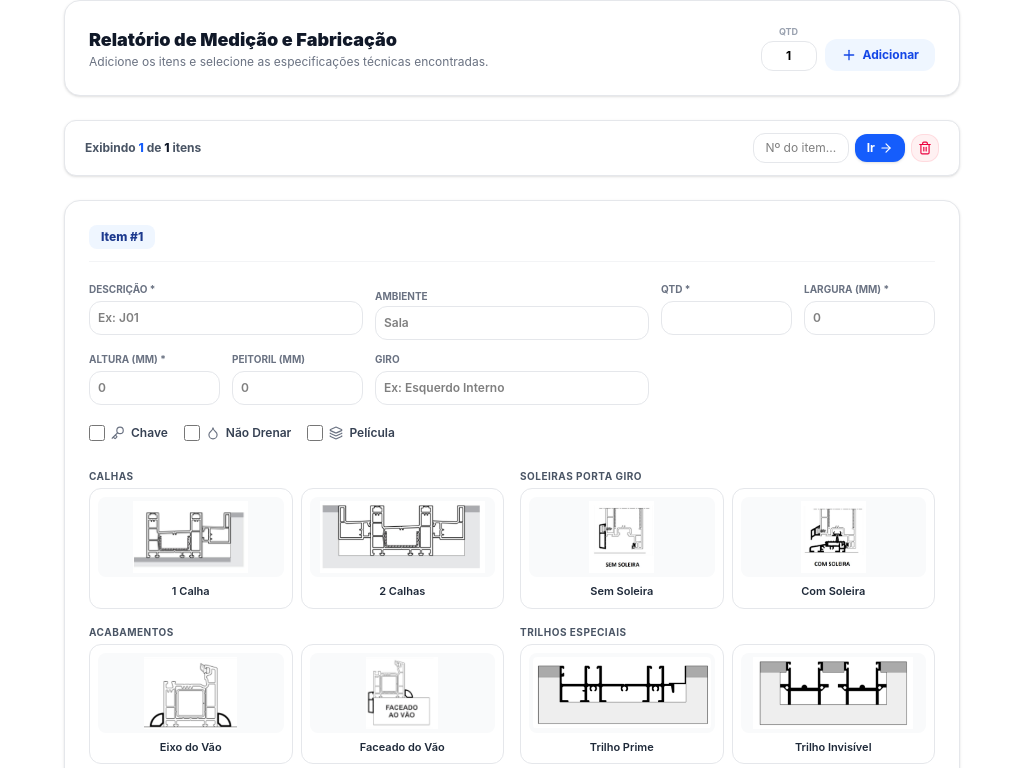
Exclusão de item com confirmação de Modal › não deve remover o item se o usuário clicar em Cancelar no Modal
This screenshot has width=1024, height=768.
Click the button "Adicionar". click: click(880, 55)
box: [824,39,935,71]
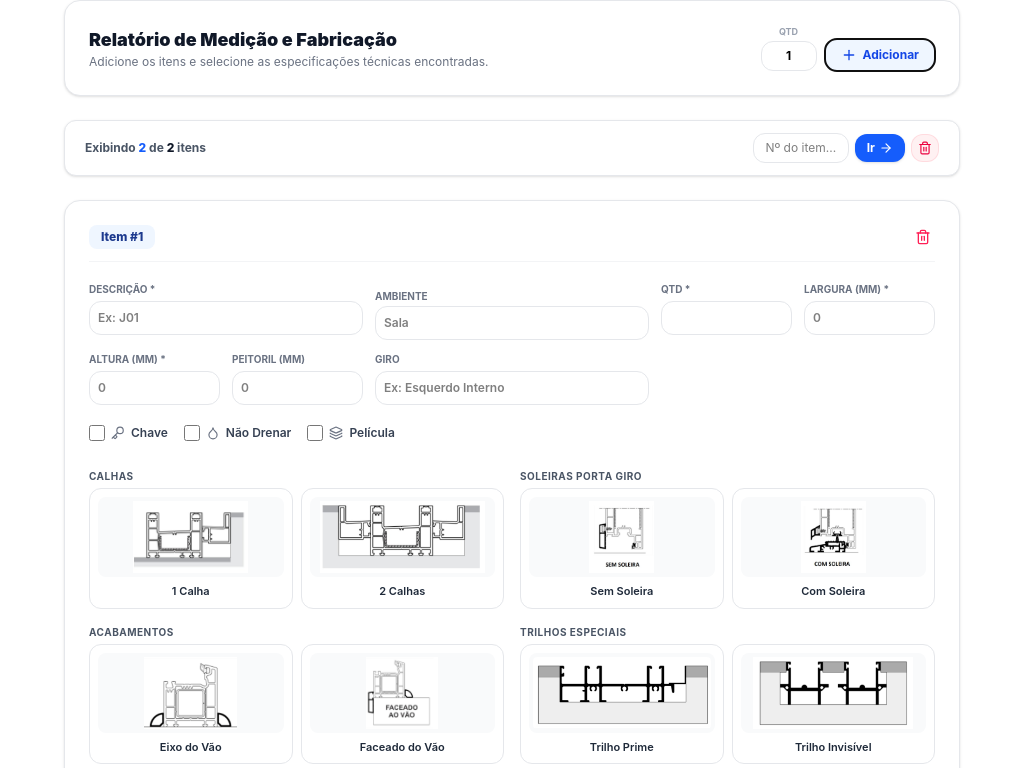
Expected: the element with test id "contador-itens" reads "Exibindo 2 de 2 itens", [85,140,206,156]
Type "2" into the field with placeholder "Nº do item...". click: (801, 148)
box: [753,133,849,163]
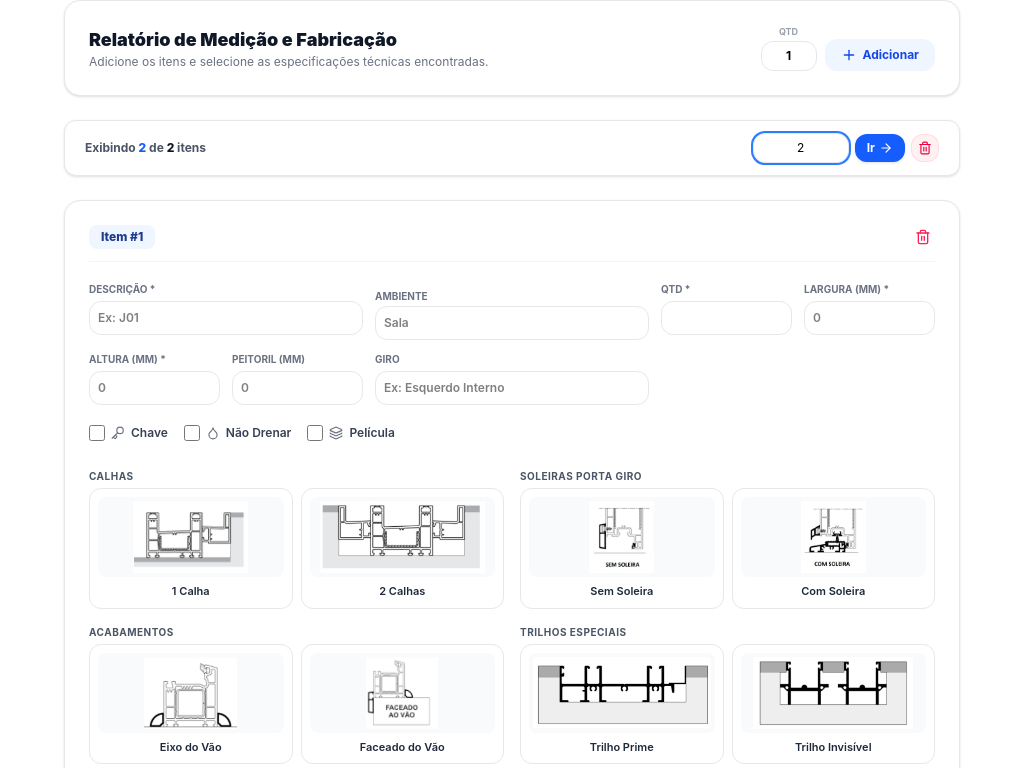
Click the button titled "remover este item pelo número". click: click(925, 148)
box: [911,134,939,162]
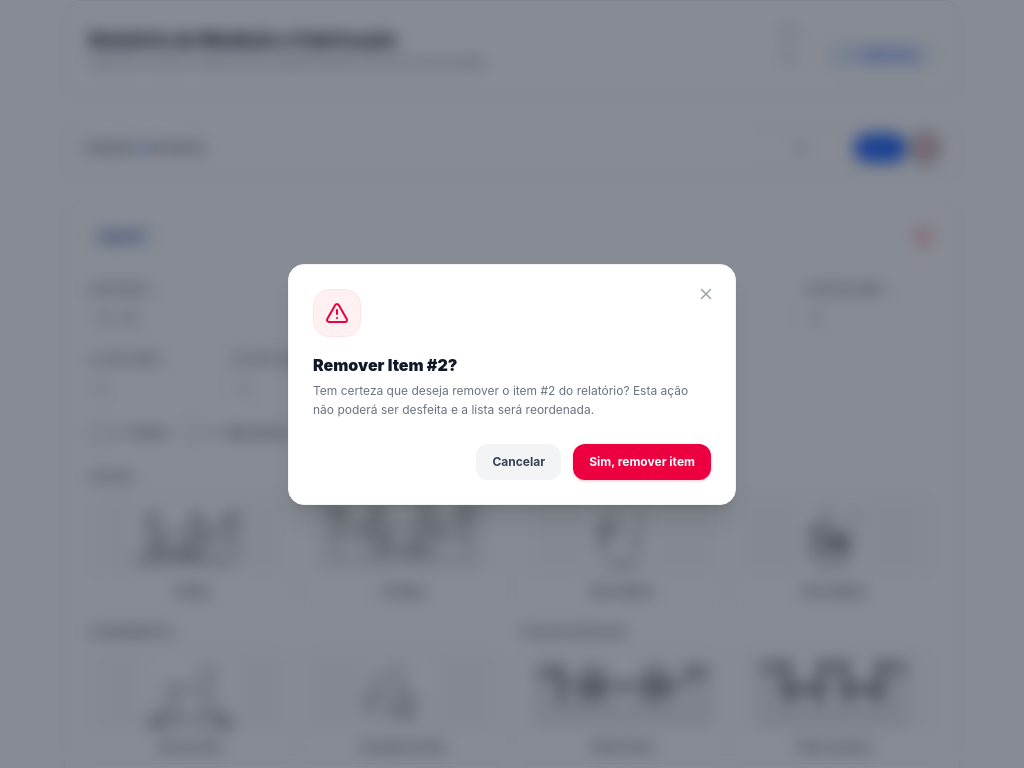
Click the button "Cancelar". click: click(519, 462)
box: [476,444,561,480]
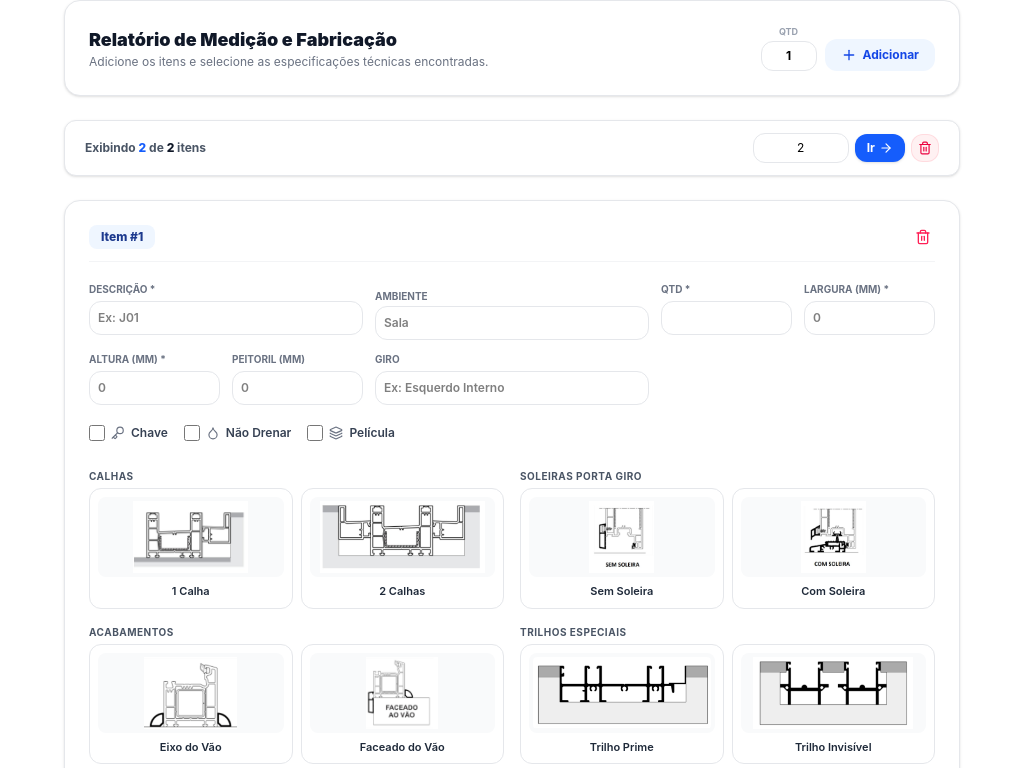
Expected: the element with test id "contador-itens" reads "Exibindo 2 de 2 itens", [85,140,206,156]
Expected: the heading "Remover Item #2?" is gone
